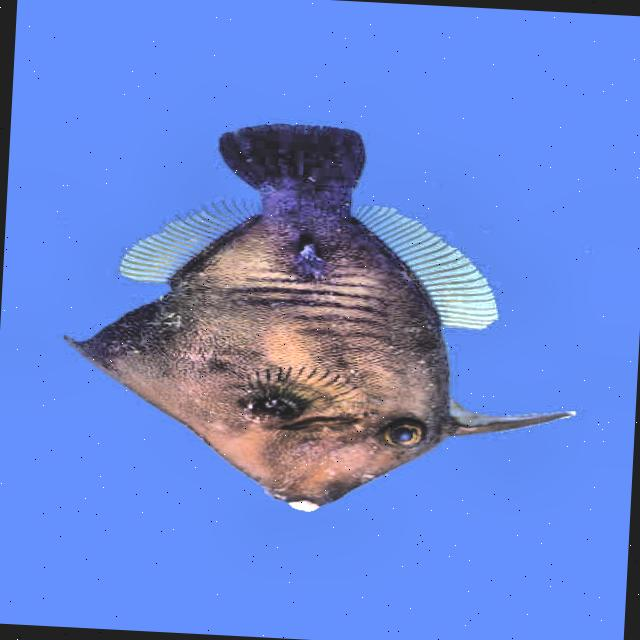fish: (52, 112, 590, 526)
